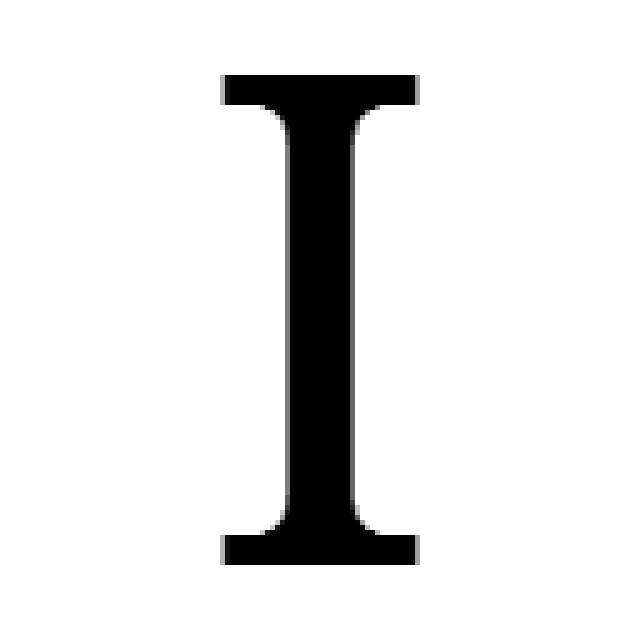I: (220, 75, 420, 570)
